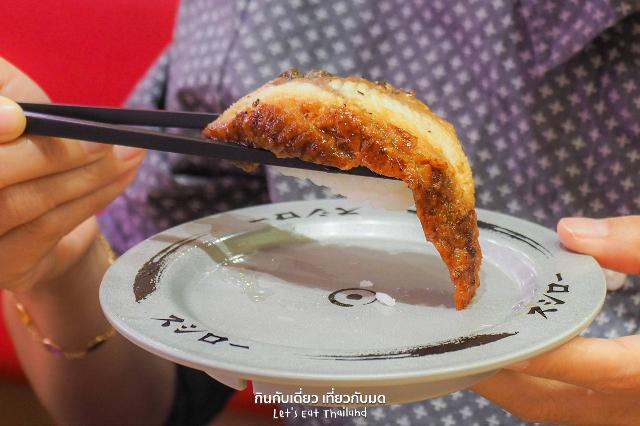janwhite: (119, 250, 616, 366), (141, 202, 405, 263), (485, 205, 568, 256)
